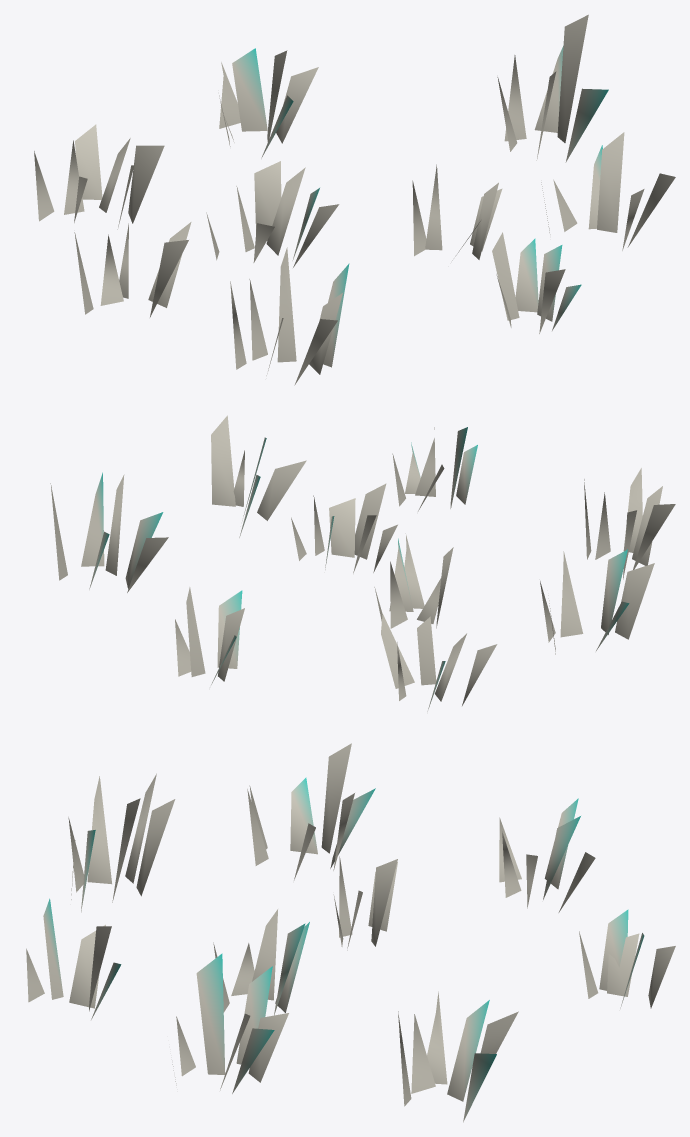
File: grass_meadow_straw_lod1.glb
3 views of the same model, one above another, from view 1: azimuth 30°, elevation 25°; view 2: azimuth 150°, elevation 25°; view 3: azimuth 270°, elevation 25° (orthographic). The views are drawn at different scales.
Parts seen in each view (by area): view 1: grass_meadow_straw_LOD1; view 2: grass_meadow_straw_LOD1; view 3: grass_meadow_straw_LOD1.
Part boxes in pixels (x1,y1,x2,y2): grass_meadow_straw_LOD1: (34,14,675,385); grass_meadow_straw_LOD1: (50,415,675,711); grass_meadow_straw_LOD1: (26,743,675,1122).
Size of the model in its own units: 4.29 by 0.8519 by 4.04.
